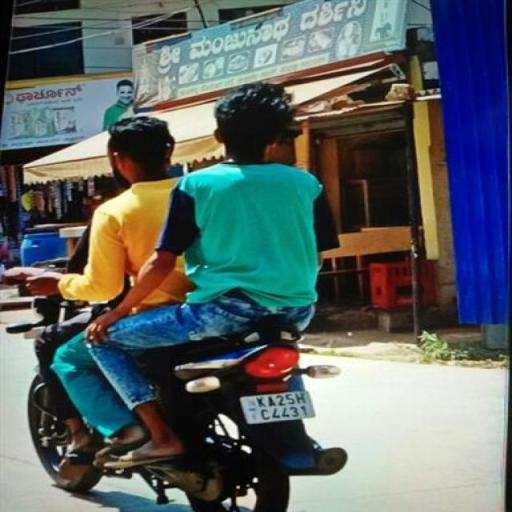tripple riding: (8, 78, 348, 350)
